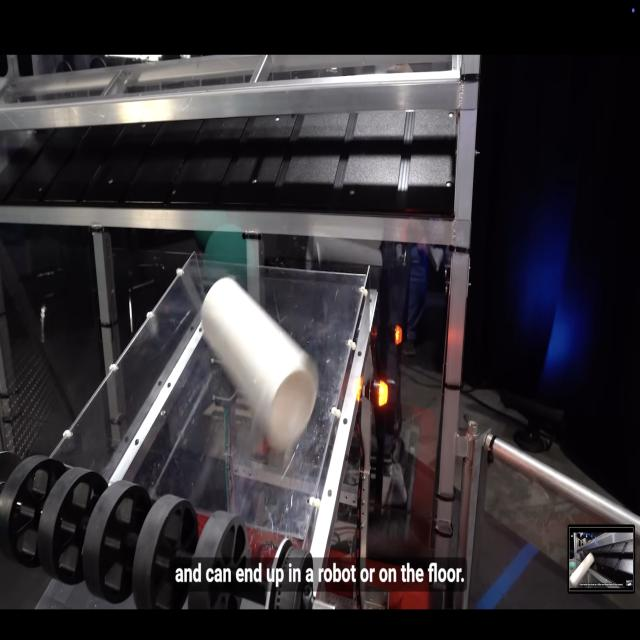coral: (196, 271, 327, 451)
